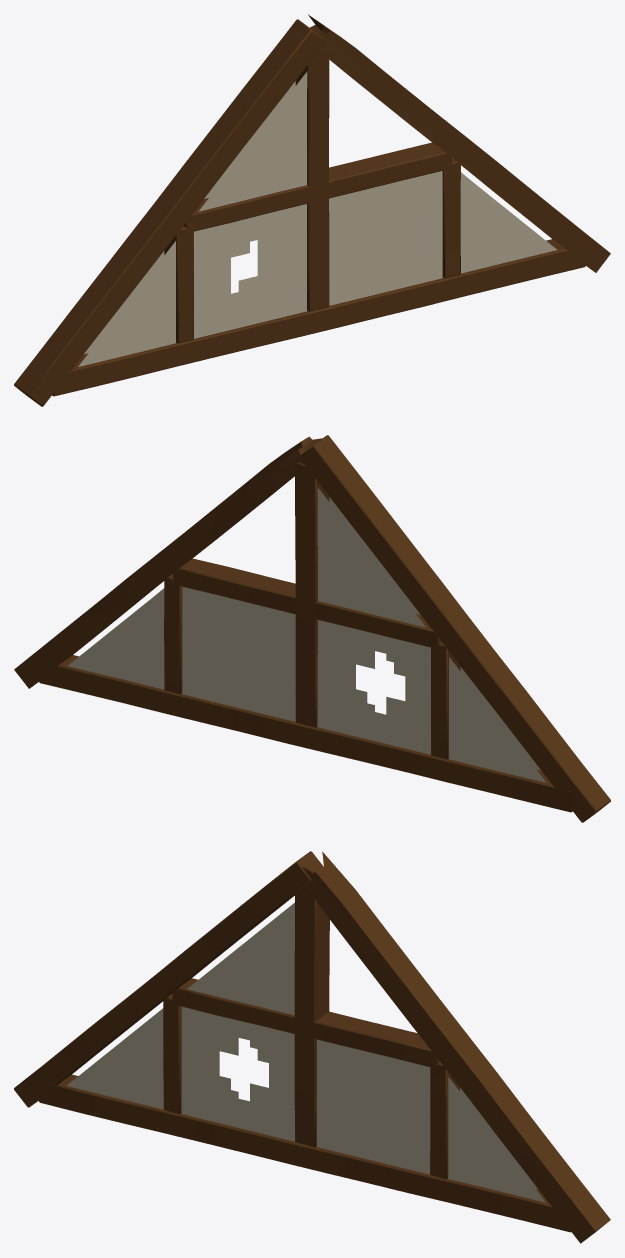
Rendered from giebel_kaputt.glb.
3 views of the same model, one above another, from view 1: azimuth 30°, elevation 25°; view 2: azimuth 150°, elevation 25°; view 3: azimuth 330°, elevation 25° (orthographic).
Parts seen in each view (by area): view 1: giebel_kaputt; view 2: giebel_kaputt; view 3: giebel_kaputt.
Part boxes in pixels (bbox=[...]): giebel_kaputt: bbox=[14, 14, 610, 406]; giebel_kaputt: bbox=[14, 435, 610, 822]; giebel_kaputt: bbox=[14, 851, 610, 1243].
Bounding box in the file's own units: 4.37 × 2.26 × 0.2042.
